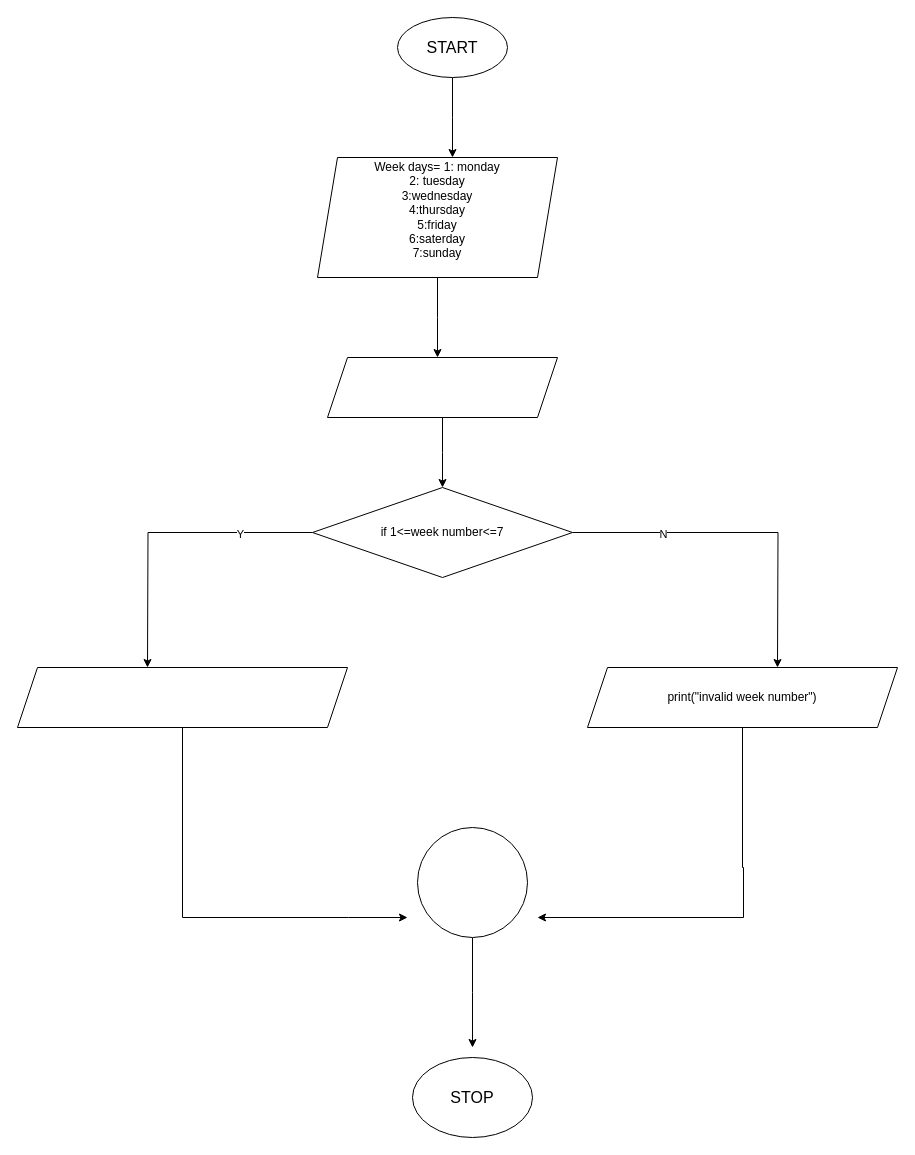
Image size: 915x1155. Some labels were removed from this diagram. Each missing label, with the centre of its shape:
print(week days[week number]): the point at 182,697
week number=enter week number: the point at 442,387
